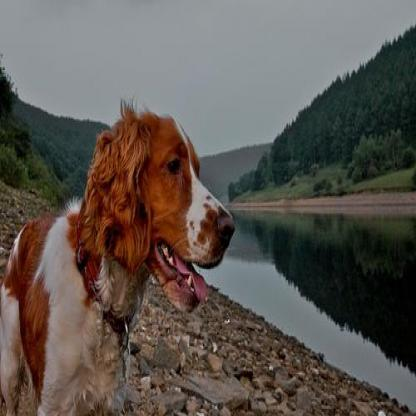Welsh_springer_spaniel: (1, 97, 237, 412)
